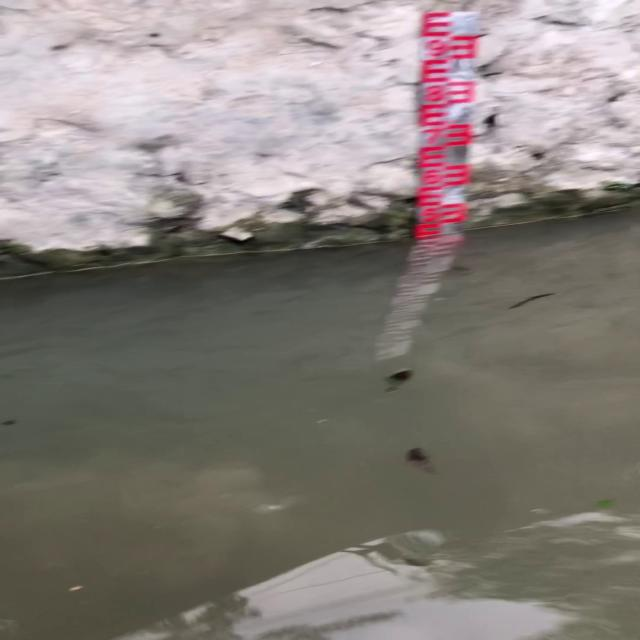ruler: (402, 7, 485, 249)
value: (420, 82, 449, 107), (422, 34, 449, 60), (421, 123, 446, 148)
